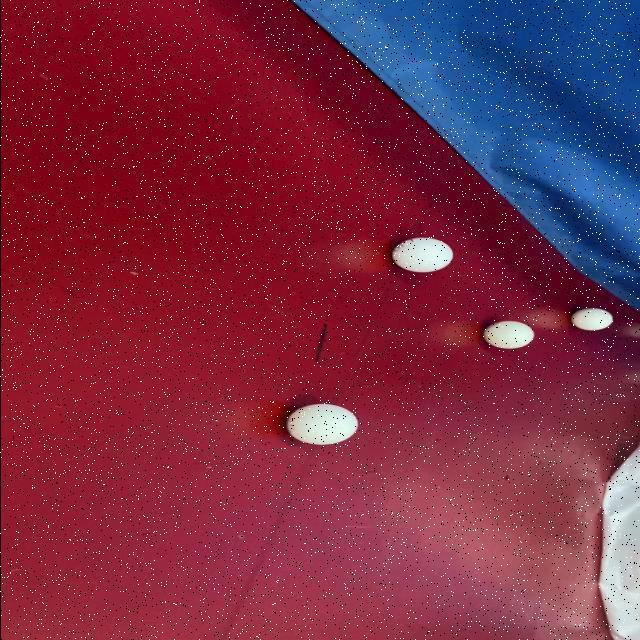ping-pong-ball: (280, 401, 361, 446), (386, 232, 456, 276), (478, 317, 542, 353), (562, 306, 618, 334)
